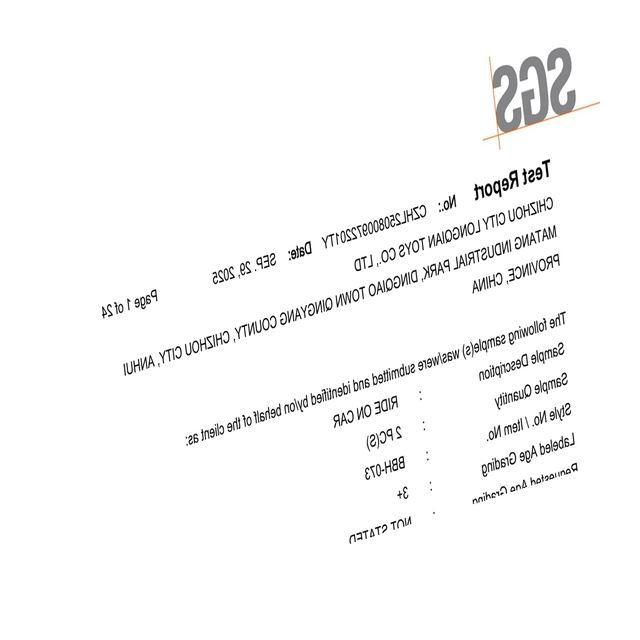sgs: (493, 46, 576, 133)
